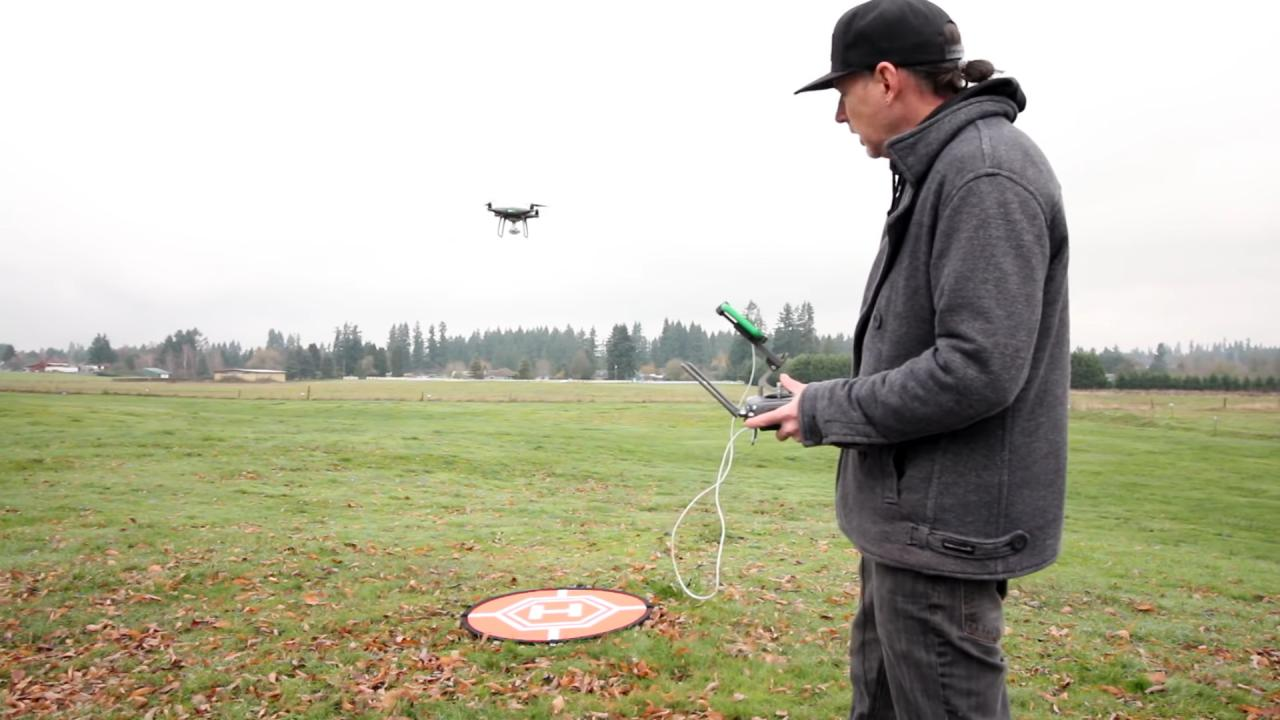Drone: (474, 196, 554, 248)
